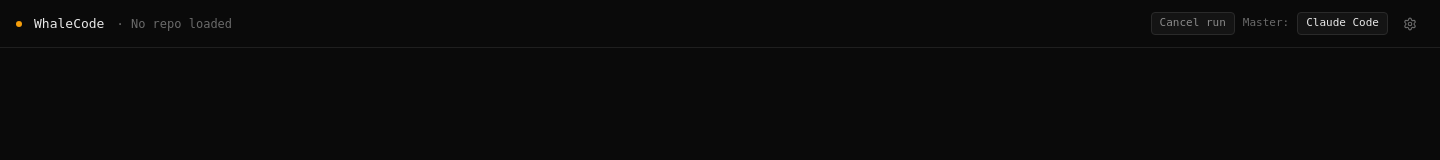
Test: TopBar cancel-run button › hides the confirm when status transitions out of cancellable set mid-prompt
The image size is (1440, 160).
Click the button with test id "topbar-cancel-run".
click(1193, 24)  # box [1150, 12, 1235, 35]
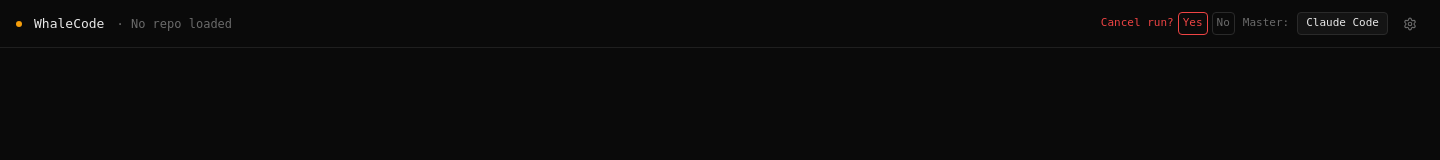
Expected: the element with test id "topbar-cancel-confirm" is shown, [1101, 12, 1235, 35]
